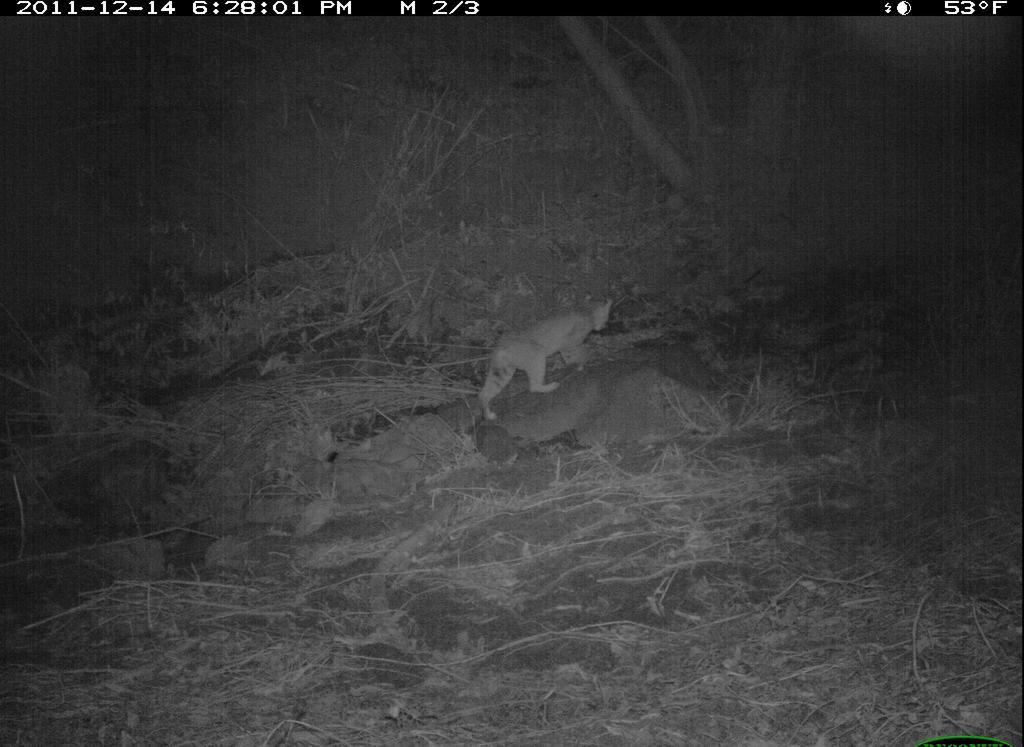bobcat: (459, 289, 634, 429)
